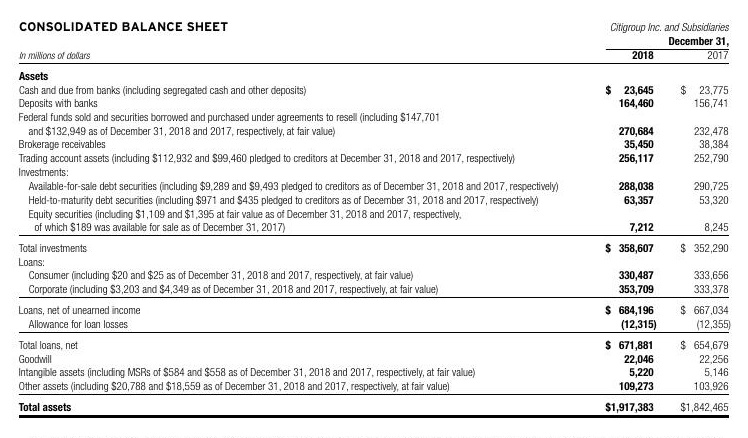table: (0, 0, 748, 438)
